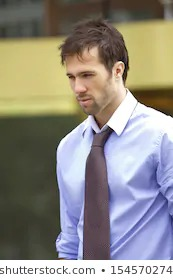F_shirt: (54, 92, 173, 260)
F_tie: (82, 125, 113, 256)
